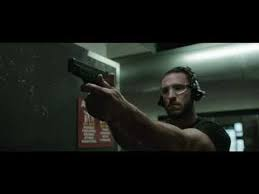gun: (66, 50, 132, 121)
